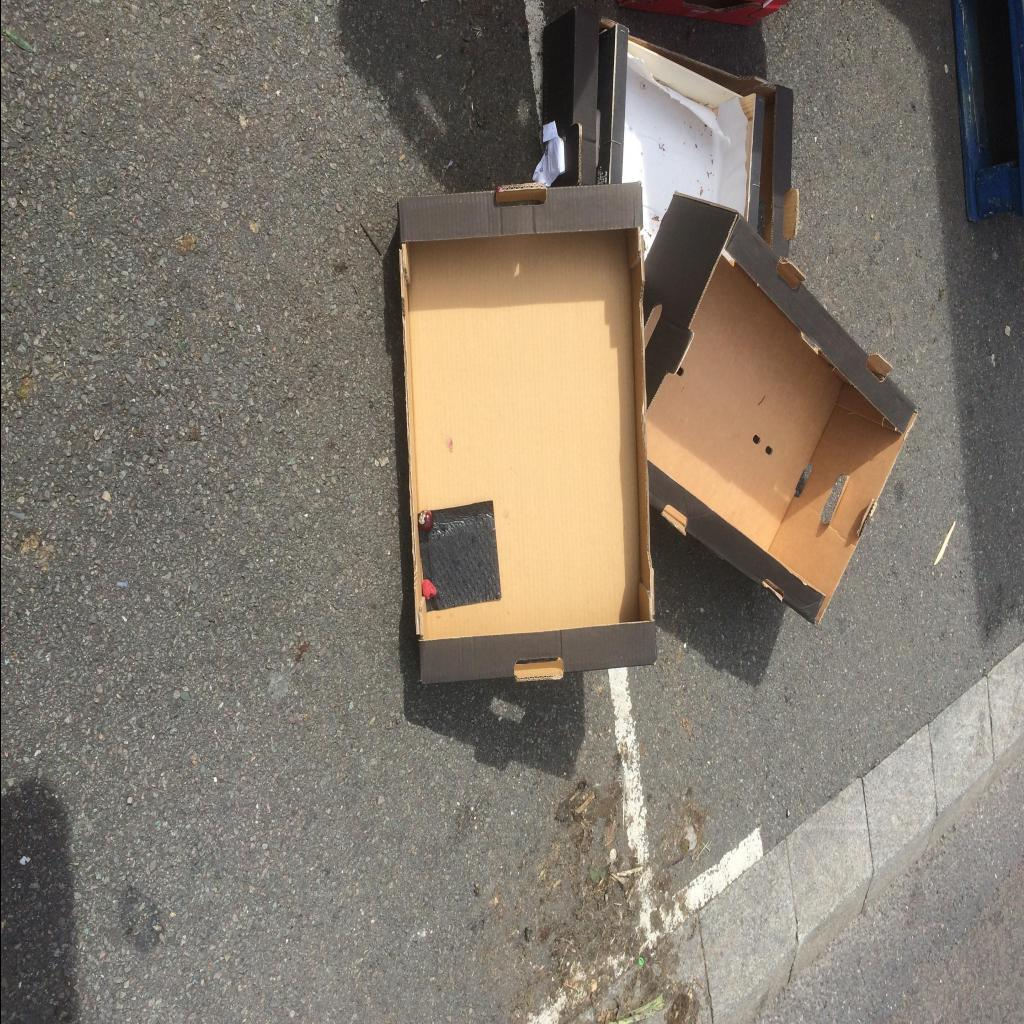Corrugated carton: (398, 180, 656, 684), (642, 190, 918, 624), (542, 6, 798, 261)
Food waste: (417, 510, 432, 532), (422, 579, 436, 600)
Unlabeled litter: (932, 521, 954, 565)
